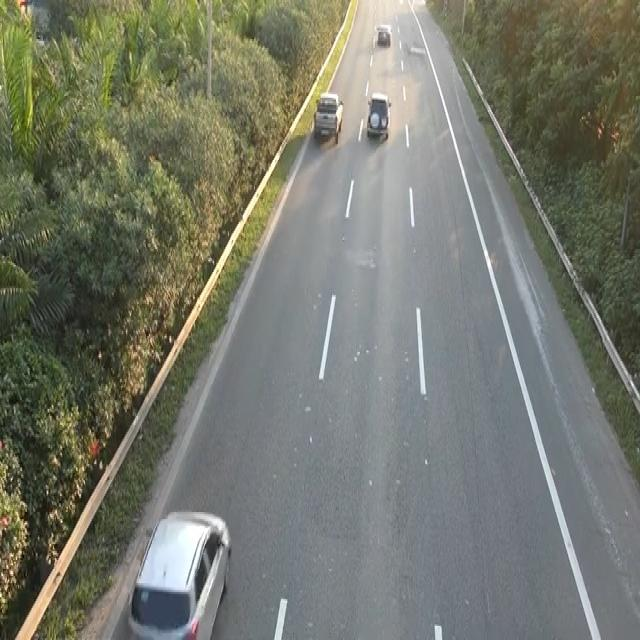car: (311, 87, 347, 149), (365, 89, 391, 140)
lorry: (125, 505, 234, 638)
